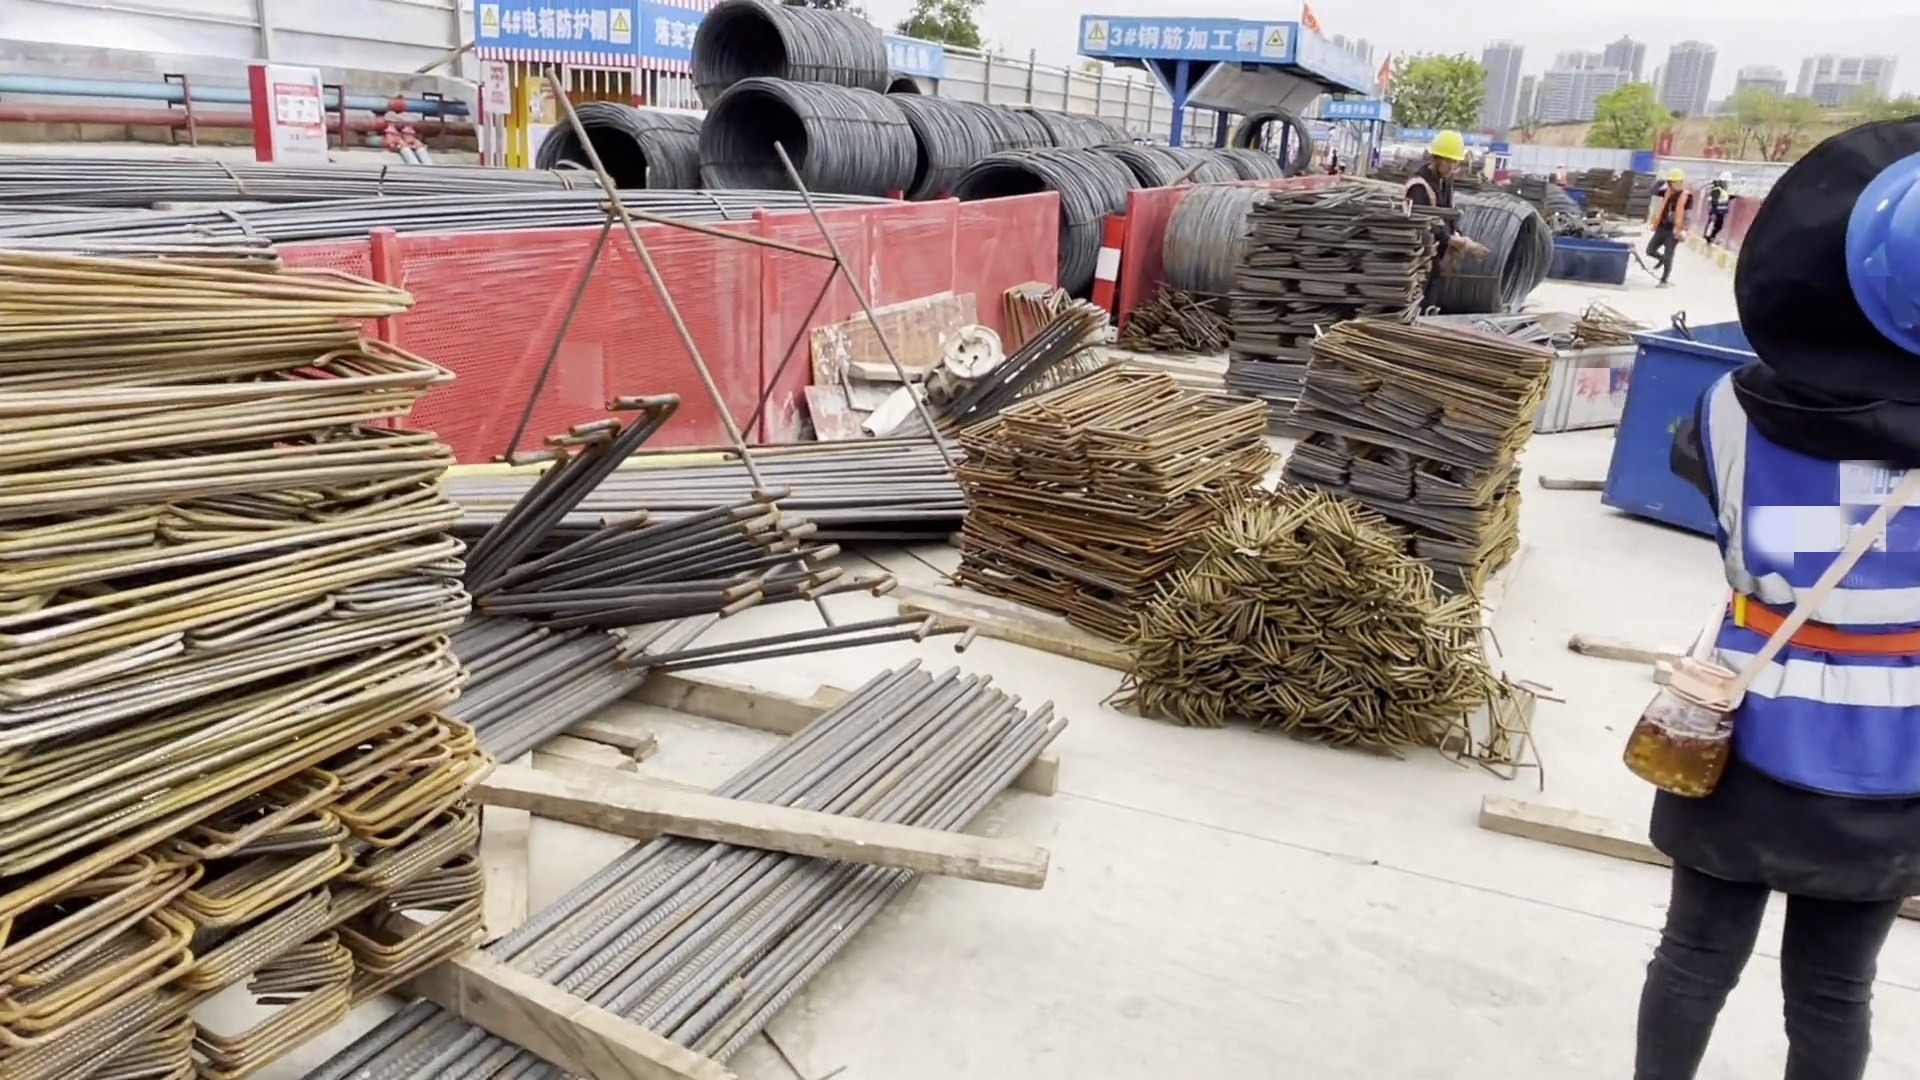fence: (912, 52, 1117, 133)
helmet: (1818, 139, 1920, 330), (1435, 129, 1462, 163), (1664, 168, 1685, 183), (1716, 169, 1733, 181)
hopper: (1599, 321, 1762, 539), (1413, 303, 1647, 429)
person: (1631, 116, 1918, 1080), (1410, 113, 1473, 300), (1646, 161, 1694, 296), (1710, 169, 1740, 252), (1556, 159, 1567, 186)
rebar: (330, 674, 1058, 1080), (440, 440, 966, 525)
slogan: (1081, 11, 1289, 53), (485, 9, 629, 60), (1325, 91, 1395, 128)
vest: (1703, 363, 1913, 773), (1407, 169, 1466, 243), (1655, 187, 1686, 240), (1712, 187, 1733, 218), (1558, 170, 1567, 181)
